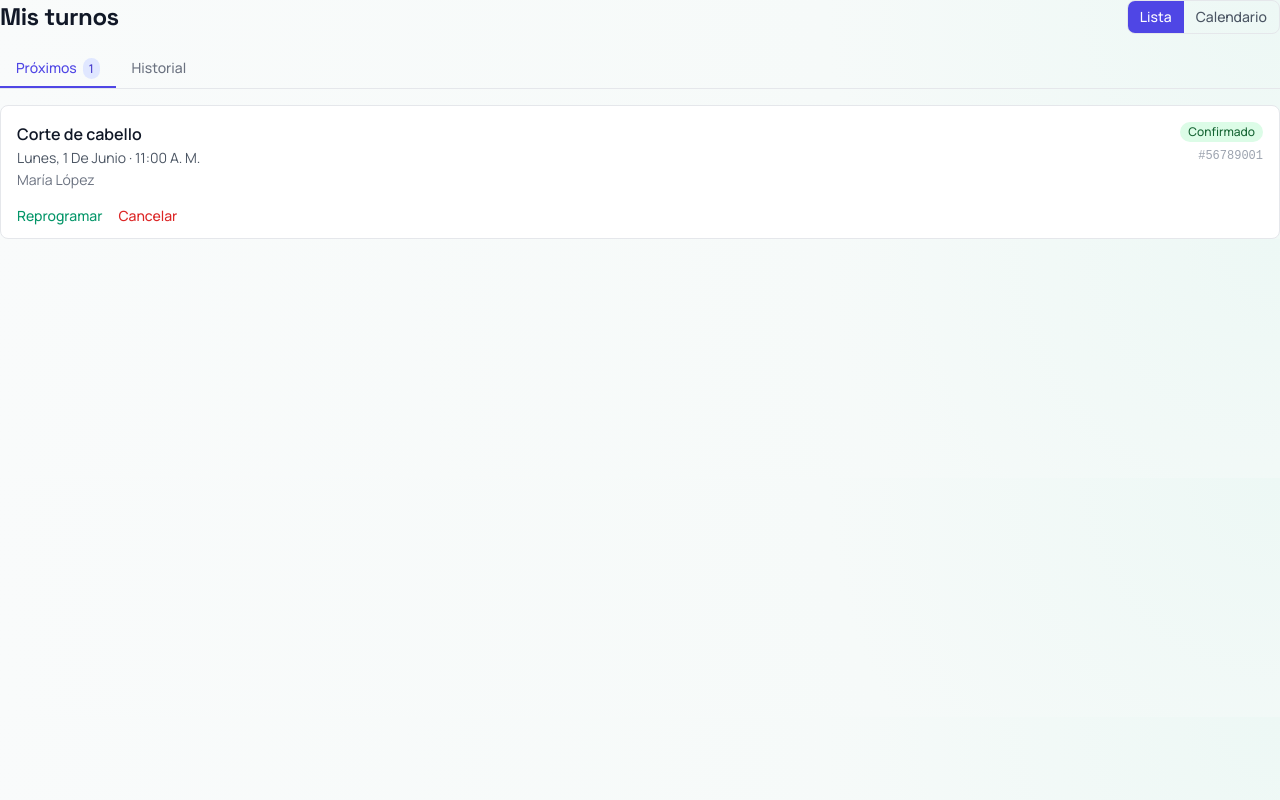
AppointmentsPage › Lista ↔ Calendario toggle › switches to Calendario view when toggle clicked
Click the button "Calendario".
click(1231, 17)  # box [1184, 1, 1279, 33]
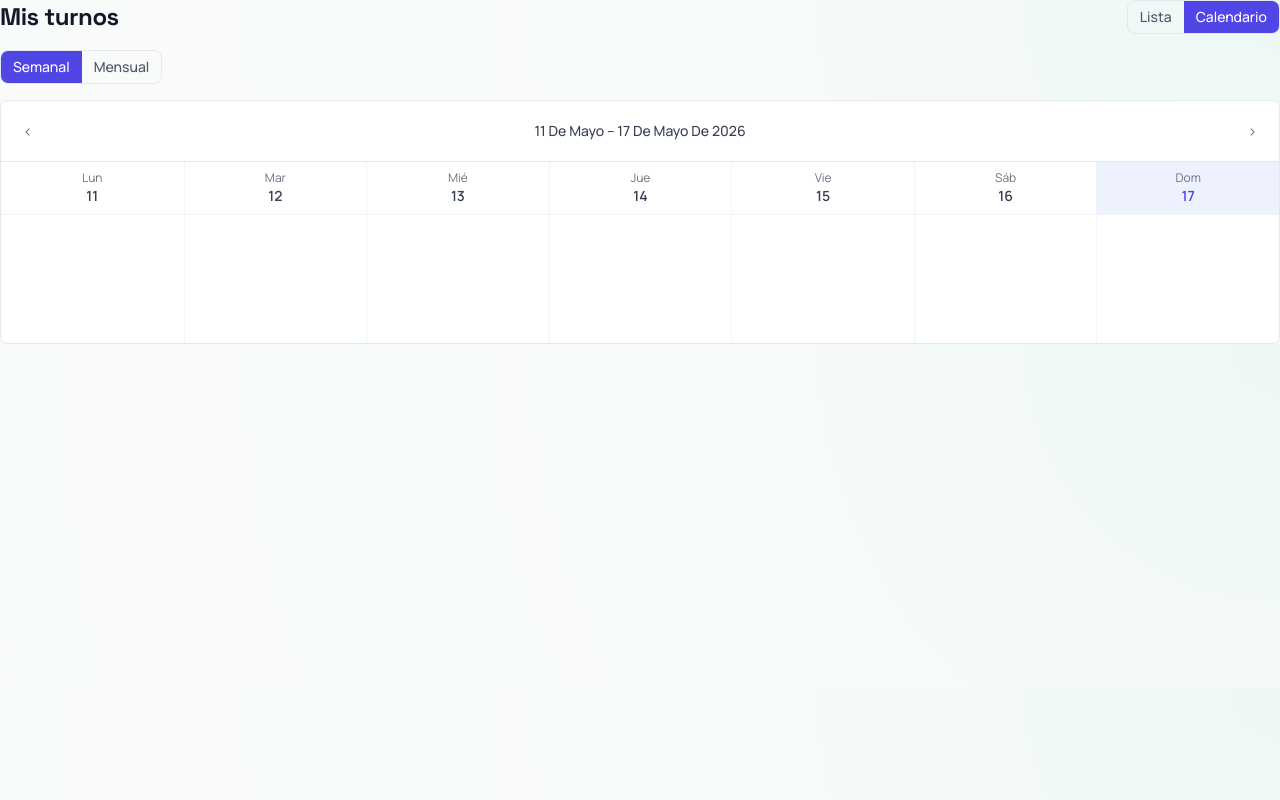
Expected: the button "Semanal" is shown, [1, 51, 82, 83]
Expected: the button "Mensual" is shown, [82, 51, 161, 83]
